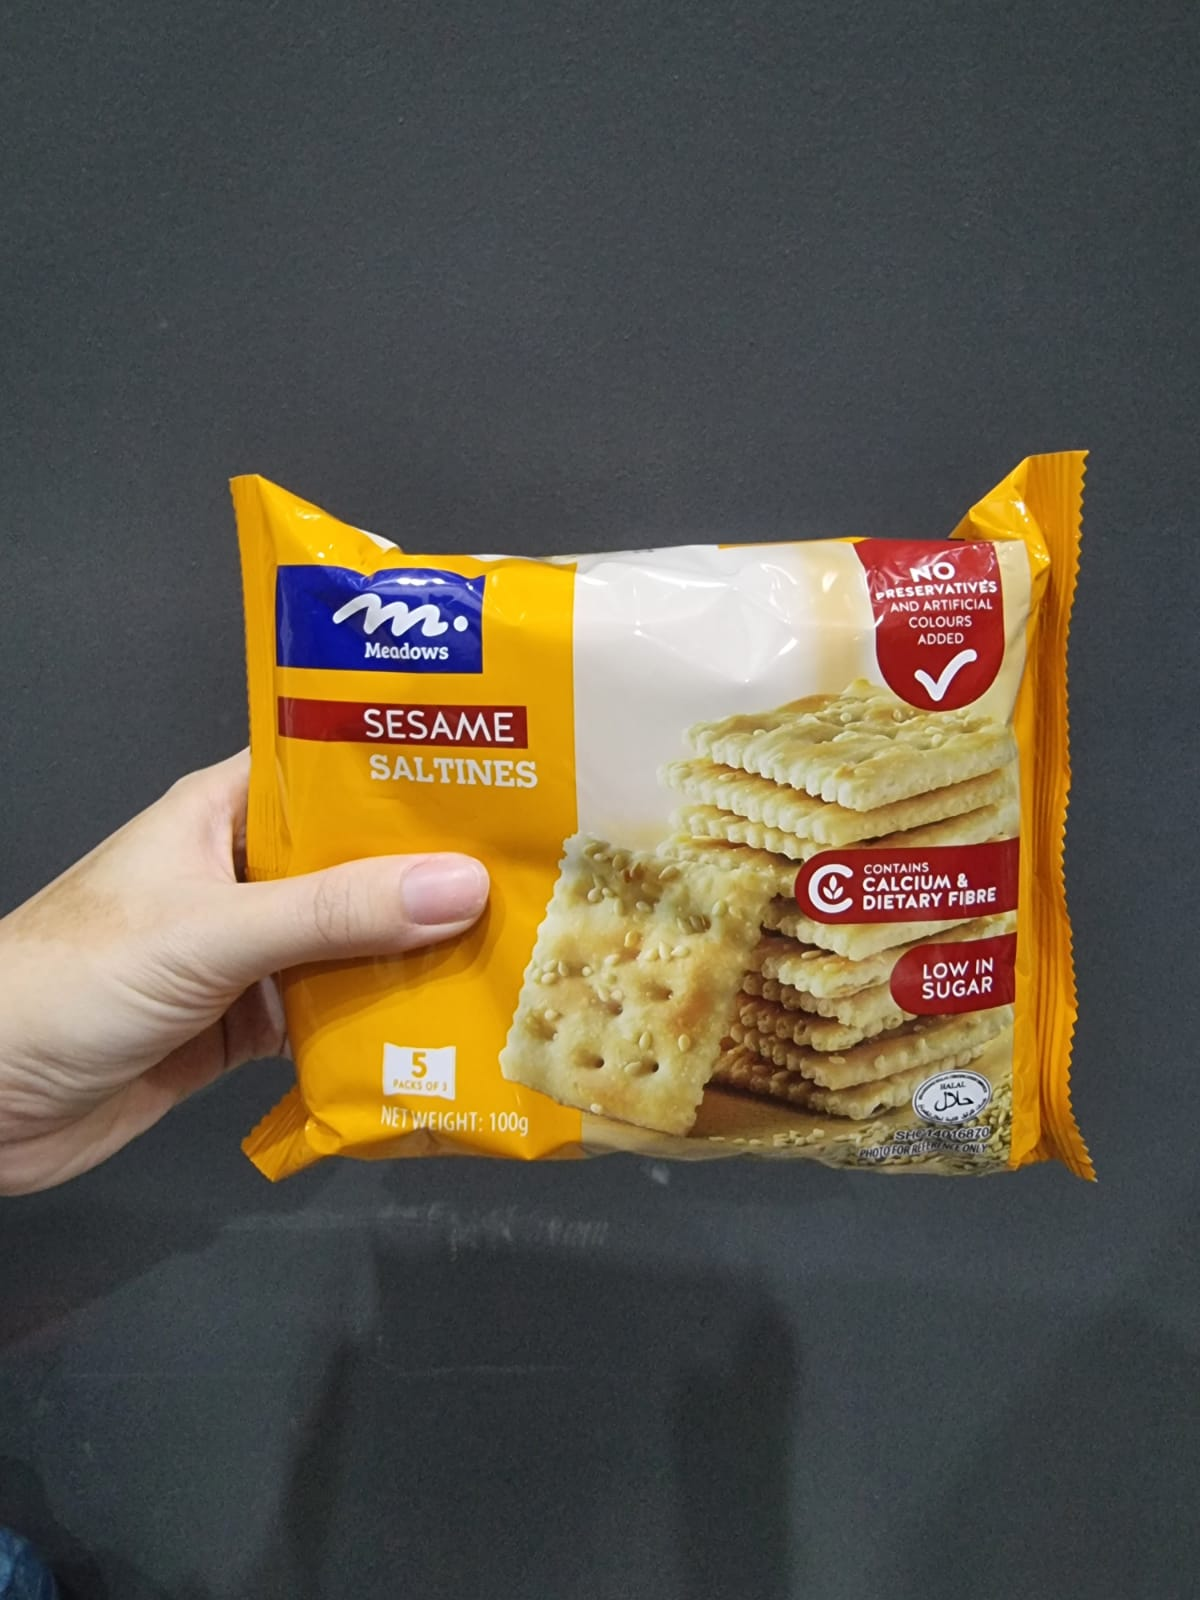Biscuits: (286, 559, 1037, 1157)
